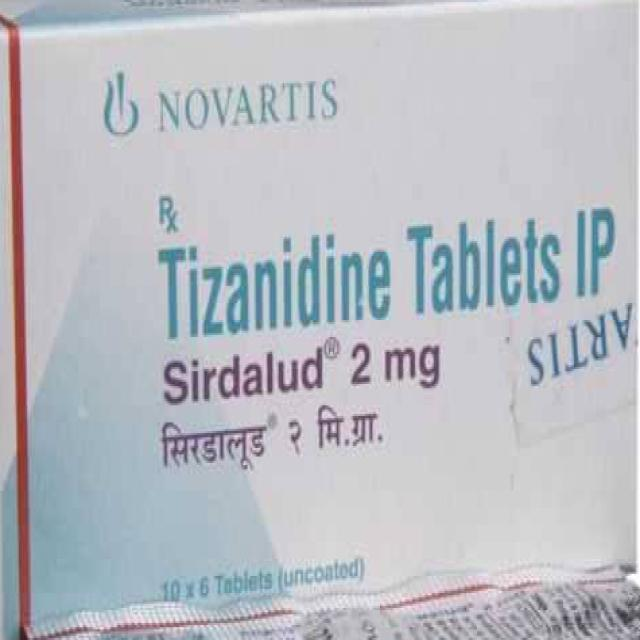drug-name: (159, 344, 326, 406)
